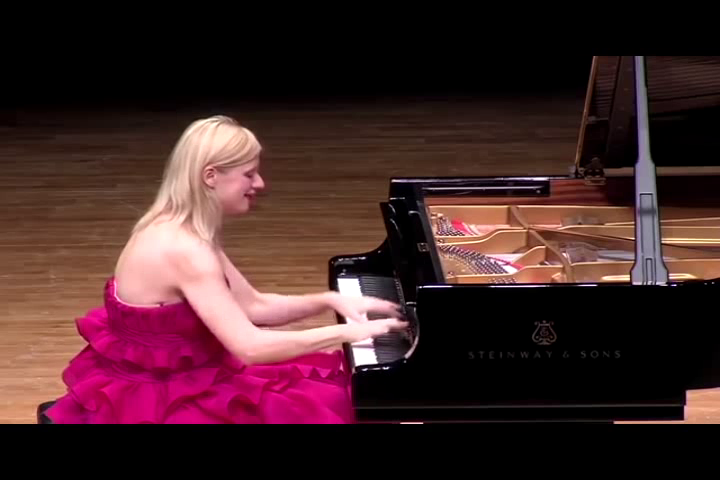keyboard: (331, 268, 417, 391)
